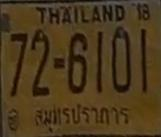0: (112, 31, 132, 93)
1: (140, 29, 147, 94), (96, 32, 102, 94)
2: (31, 33, 50, 96)
6: (67, 32, 87, 92)
7: (10, 32, 28, 96)
SPK: (30, 100, 133, 131)
